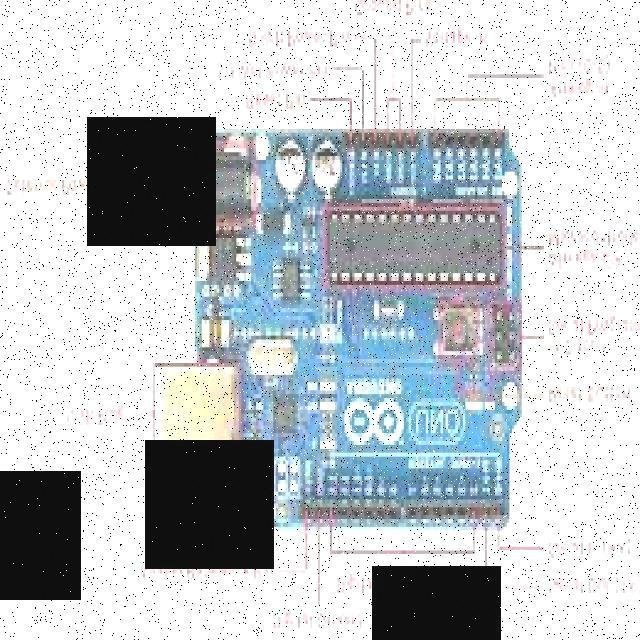arduino: (182, 129, 516, 526)
